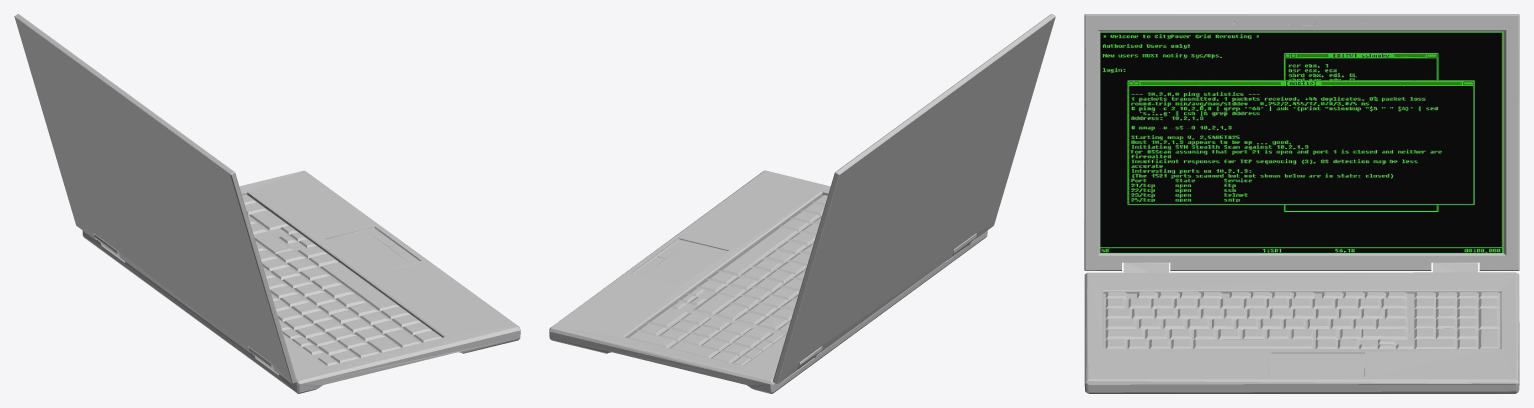
Rendered from Laptop.FBX.
3 views of the same model, side by side, from view 1: azimuth 30°, elevation 25°; view 2: azimuth 150°, elevation 25°; view 3: azimuth 270°, elevation 25° (orthographic).
Visible parts, largest first — view 1: Laptop; view 2: Laptop; view 3: Laptop.
Boxes of the visible parts, box(x1,y1,x2,y2) form: Laptop: box(14, 14, 520, 393); Laptop: box(549, 14, 1055, 393); Laptop: box(1084, 14, 1519, 393).
Bounding box in the file's own units: 610 × 786 × 477.
